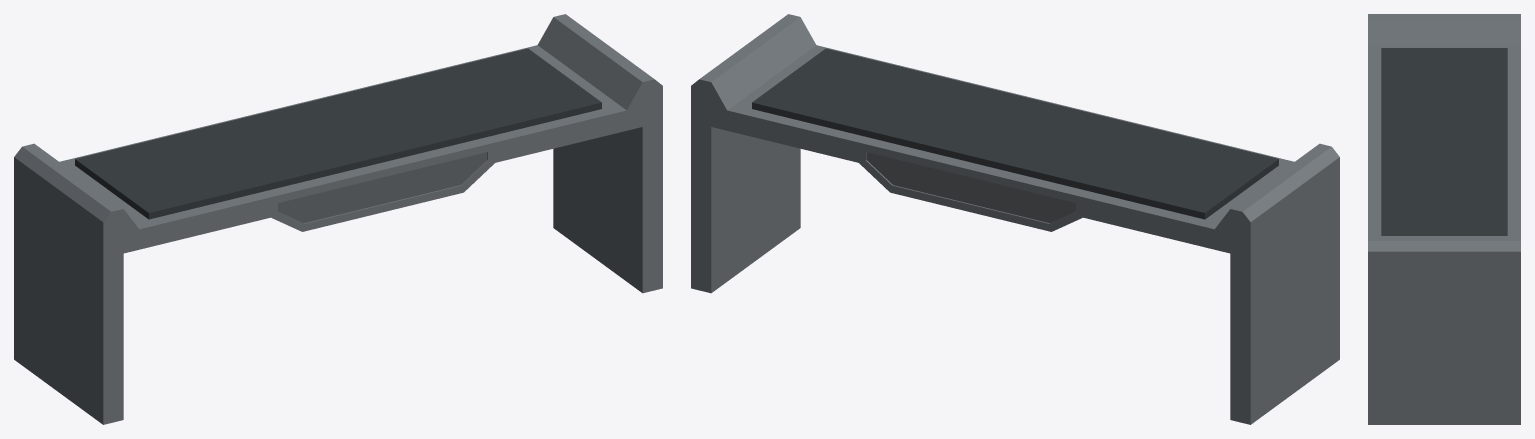
The model's file is SM_Props_Bench_02.fbx.
The picture shows the model from 3 angles, left to right: view 1: azimuth 30°, elevation 25°; view 2: azimuth 150°, elevation 25°; view 3: azimuth 270°, elevation 25°; orthographic projection. The views are drawn at different scales.
Parts seen in each view (by area): view 1: SM_Props_Bench_02; view 2: SM_Props_Bench_02; view 3: SM_Props_Bench_02.
Boxes of the visible parts, x1,y1,x2,y2 form: SM_Props_Bench_02: (14, 14, 662, 424); SM_Props_Bench_02: (691, 14, 1339, 424); SM_Props_Bench_02: (1368, 14, 1520, 424).
Bounding box in the file's own units: 163 × 58.67 × 44.94.
